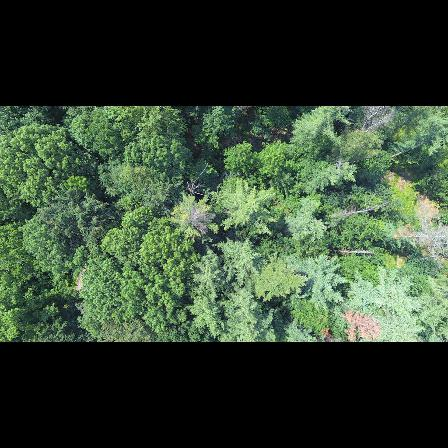Dead: (350, 106, 400, 136)
